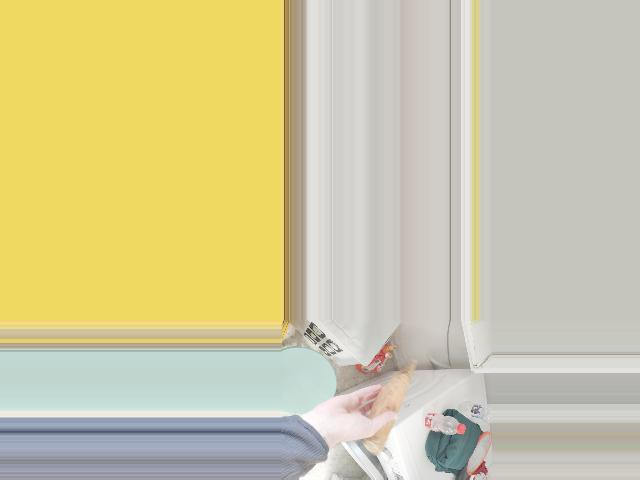sweet_potato: (364, 381, 411, 448)
